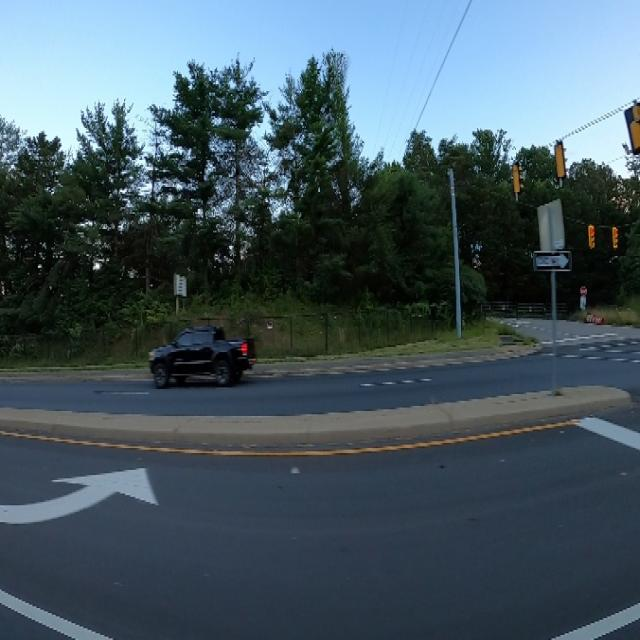cars: (141, 319, 257, 385)
